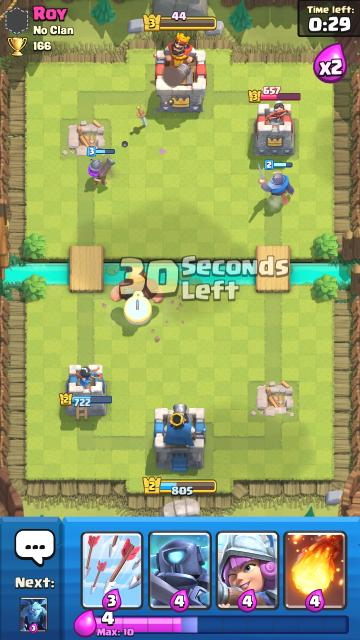ally_melee: (258, 163, 295, 205)
ally_ranged: (89, 158, 116, 184)
ally_tank: (110, 267, 164, 304)
